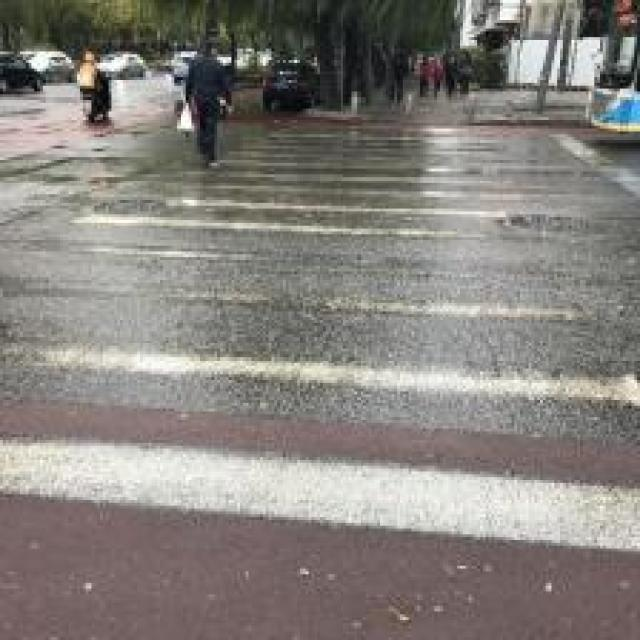crosswalk: (1, 117, 640, 565)
